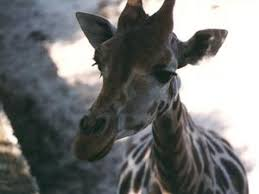Jirafa: (54, 2, 258, 194)
